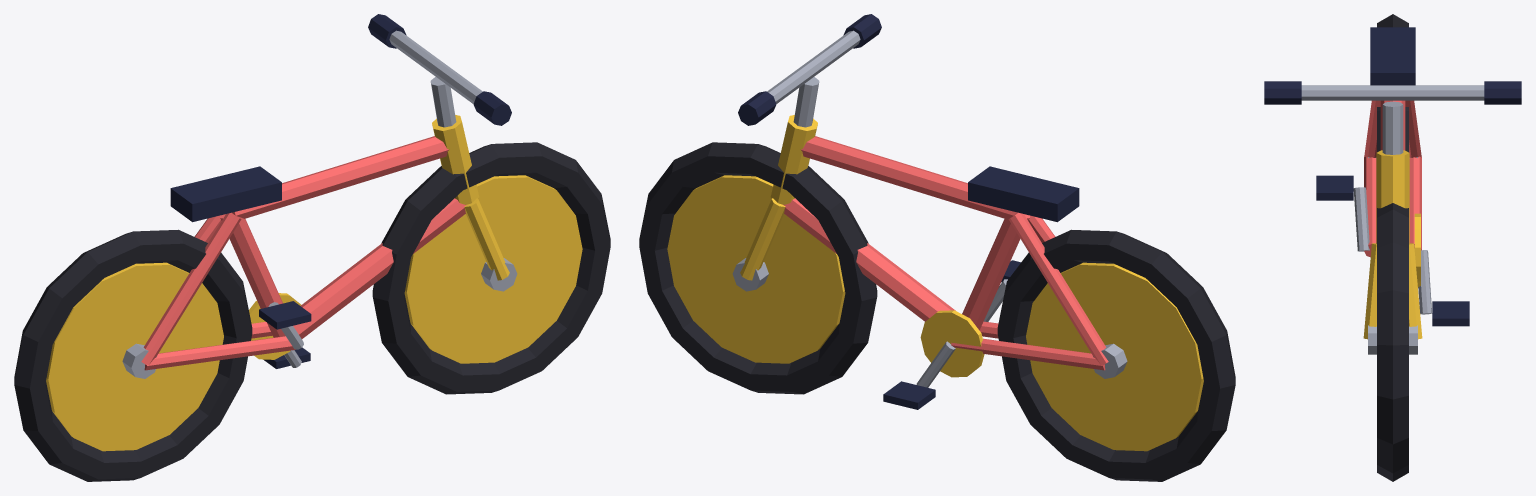
The model's file is BMX.fbx.
The picture shows the model from 3 angles, left to right: view 1: azimuth 30°, elevation 25°; view 2: azimuth 150°, elevation 25°; view 3: azimuth 270°, elevation 25°; orthographic projection. The views are drawn at different scales.
Visible parts, largest first — view 1: Front_Rim, Rear_Rim, Front_Tire, Rear_Tire, TopTube, Seat, DownTube, SeatStay-1, ChainStay-1, SeatTube, HeadTube, Bars (+7 smaller); view 2: Front_Rim, Rear_Rim, Front_Tire, Rear_Tire, TopTube, Seat, DownTube, Sprocket, SeatStay1, SeatTube, ChainStay1, HeadTube (+9 smaller); view 3: Front_Tire, Bars, Seat, HeadTube, Stem, ChainStay-1, Pedal-1, Pedal1, ChainStay1, Grip-1, Grip1, Crank-1 (+9 smaller).
Boxes of the visible parts, left/top/right/bottom form: Front_Rim: left=404, top=175, right=582, bottom=363; Rear_Rim: left=46, top=262, right=223, bottom=451; Front_Tire: left=372, top=142, right=610, bottom=394; Rear_Tire: left=14, top=229, right=252, bottom=481; TopTube: left=232, top=136, right=448, bottom=218; Seat: left=170, top=166, right=281, bottom=222; DownTube: left=293, top=198, right=466, bottom=338; SeatStay-1: left=141, top=213, right=241, bottom=365; ChainStay-1: left=144, top=336, right=295, bottom=370; SeatTube: left=219, top=212, right=285, bottom=337; HeadTube: left=432, top=115, right=479, bottom=204; Bars: left=389, top=30, right=482, bottom=103; Front_Rim: left=667, top=175, right=845, bottom=363; Rear_Rim: left=1026, top=262, right=1203, bottom=451; Front_Tire: left=639, top=142, right=877, bottom=394; Rear_Tire: left=997, top=229, right=1235, bottom=481; TopTube: left=801, top=136, right=1017, bottom=218; Seat: left=968, top=166, right=1079, bottom=222; DownTube: left=783, top=198, right=955, bottom=321; Sprocket: left=920, top=310, right=984, bottom=377; SeatStay1: left=1008, top=213, right=1108, bottom=365; SeatTube: left=962, top=212, right=1030, bottom=330; ChainStay1: left=951, top=338, right=1105, bottom=370; HeadTube: left=770, top=115, right=817, bottom=204; Front_Tire: left=1377, top=203, right=1408, bottom=481; Bars: left=1301, top=85, right=1484, bottom=100; Seat: left=1370, top=27, right=1415, bottom=85; HeadTube: left=1376, top=150, right=1409, bottom=243; Stem: left=1382, top=101, right=1403, bottom=154; ChainStay-1: left=1364, top=156, right=1376, bottom=257; Pedal-1: left=1316, top=175, right=1353, bottom=200; Pedal1: left=1432, top=301, right=1469, bottom=326; ChainStay1: left=1409, top=156, right=1421, bottom=250; Grip-1: left=1264, top=81, right=1301, bottom=104; Grip1: left=1484, top=81, right=1521, bottom=104; Crank-1: left=1353, top=187, right=1369, bottom=251.
Size of the model in its own units: 173 by 96 by 62.
